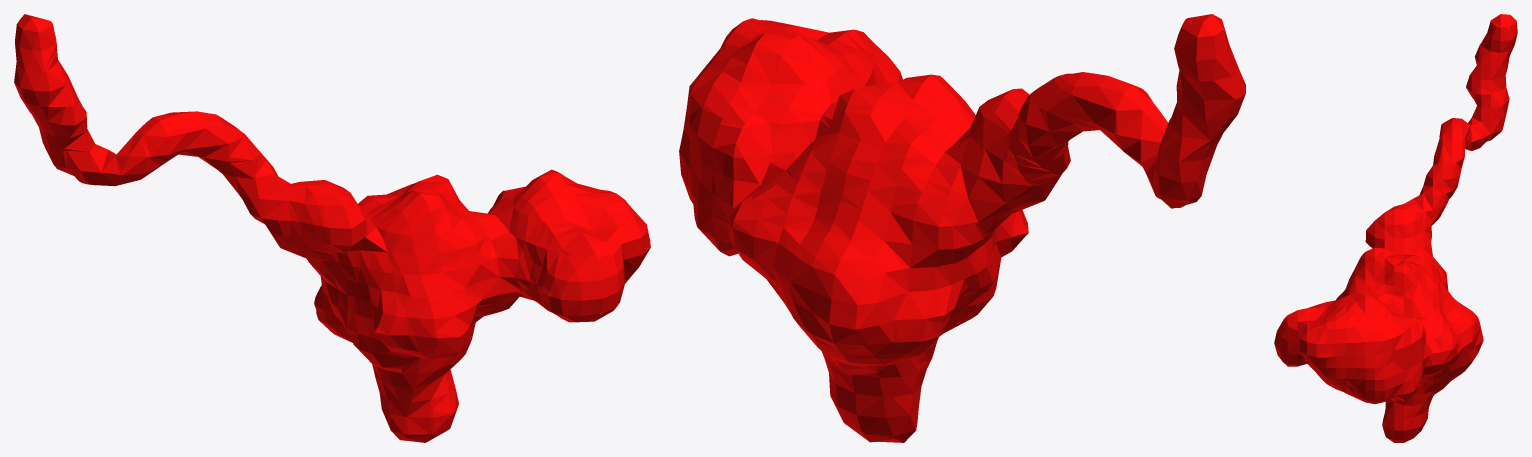
File: degS_coarse.dae
The picture shows the model from 3 angles, left to right: view 1: azimuth 30°, elevation 25°; view 2: azimuth 150°, elevation 25°; view 3: azimuth 270°, elevation 25°; orthographic projection. The views are drawn at different scales.
Parts seen in each view (by area): view 1: degS; view 2: degS; view 3: degS.
Boxes of the visible parts, box(x1,y1,x2,y2) form: degS: box(14, 14, 650, 442); degS: box(679, 14, 1245, 442); degS: box(1274, 14, 1517, 442).
Bounding box in the file's own units: 124 × 105 × 72.74.
